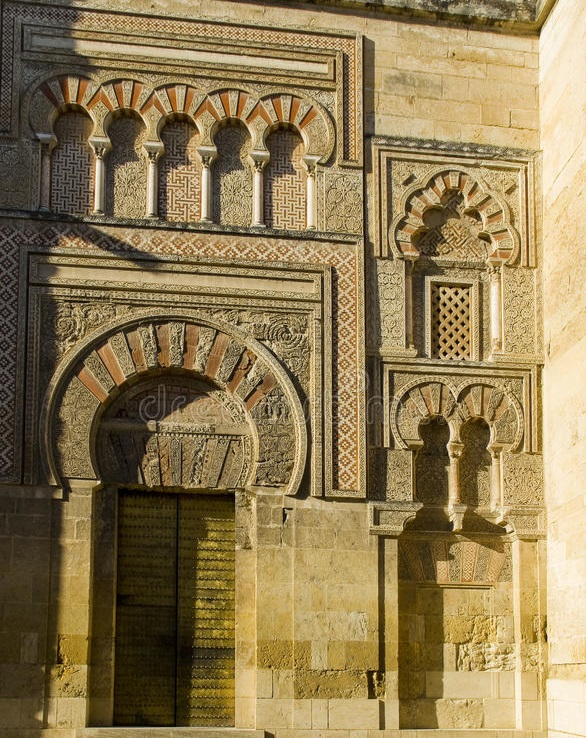arco-herradura: (79, 347, 273, 520), (42, 95, 101, 155), (100, 97, 155, 160), (259, 112, 314, 173), (152, 106, 207, 164), (206, 108, 259, 168), (412, 410, 456, 456), (455, 412, 498, 458)
arco-lobulado: (402, 181, 501, 268)
